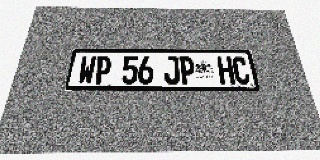5: (122, 56, 138, 84)
6: (138, 56, 153, 84)
C: (231, 57, 251, 84)
H: (217, 57, 235, 84)
J: (164, 56, 180, 84)
P: (93, 56, 112, 84), (179, 57, 196, 84)
W: (77, 56, 97, 84)
